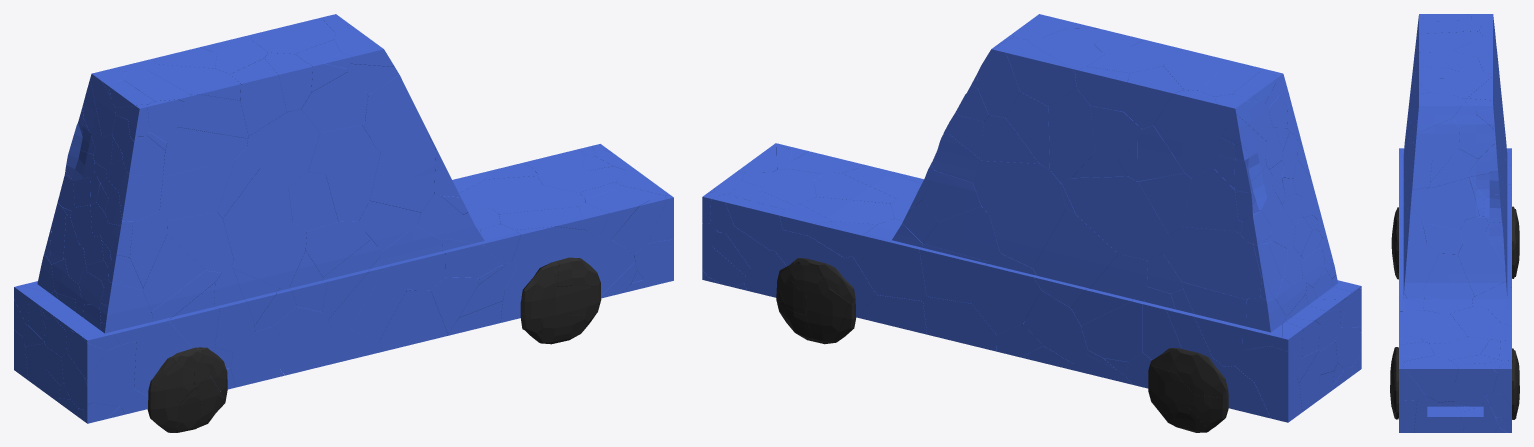
The model's file is FunnyBlueCar.fbx.
3 renders of one model, left to right at view 1: azimuth 30°, elevation 25°; view 2: azimuth 150°, elevation 25°; view 3: azimuth 270°, elevation 25°, orthographic. The views are drawn at different scales.
Parts seen in each view (by area): view 1: CarBody_cell.181, CarBody_cell.229, CarBody_cell.017, CarBody_cell.168, CarBody_cell.297, CarBody_cell.124, CarBody_cell.010, CarBody_cell.114, CarBody_cell.071, CarBody_cell.118, CarBody_cell.016, CarBody_cell.117 (+82 smaller); view 2: CarBody_cell.019, CarBody_cell.213, CarBody_cell.029, CarBody_cell.244, CarBody_cell.050, CarBody_cell.171, CarBody_cell.129, CarBody_cell.194, CarBody_cell.294, CarBody_cell.266, CarBody_cell.289, CarBody_cell.228 (+78 smaller); view 3: CarBody_cell.023, CarBody_cell.013, CarBody_cell.162, CarBody_cell.188, CarBody_cell.192, CarBody_cell.146, CarBody_cell.025, CarBody_cell.225, CarBody_cell.200, CarBody_cell.091, CarBody_cell.290, CarBody_cell.168 (+66 smaller).
Boxes of the visible parts, box(x1,y1,x2,y2) form: CarBody_cell.181: box(223, 168, 292, 259); CarBody_cell.229: box(369, 138, 435, 212); CarBody_cell.017: box(247, 109, 319, 187); CarBody_cell.168: box(365, 74, 429, 151); CarBody_cell.297: box(159, 159, 235, 220); CarBody_cell.124: box(231, 222, 306, 288); CarBody_cell.010: box(382, 225, 445, 290); CarBody_cell.114: box(163, 127, 247, 177); CarBody_cell.071: box(301, 72, 368, 132); CarBody_cell.118: box(167, 212, 233, 272); CarBody_cell.016: box(379, 290, 447, 351); CarBody_cell.117: box(512, 226, 595, 274); CarBody_cell.019: box(1062, 176, 1169, 260); CarBody_cell.213: box(1033, 208, 1119, 307); CarBody_cell.029: box(1163, 227, 1248, 299); CarBody_cell.244: box(853, 219, 926, 301); CarBody_cell.050: box(1153, 90, 1221, 178); CarBody_cell.171: box(972, 253, 1040, 334); CarBody_cell.129: box(989, 187, 1065, 268); CarBody_cell.194: box(1048, 88, 1095, 183); CarBody_cell.294: box(1182, 282, 1247, 366); CarBody_cell.266: box(973, 160, 1060, 214); CarBody_cell.289: box(1071, 254, 1147, 325); CarBody_cell.228: box(919, 243, 987, 303); CarBody_cell.023: box(1423, 253, 1474, 313); CarBody_cell.013: box(1458, 232, 1505, 296); CarBody_cell.162: box(1411, 188, 1465, 229); CarBody_cell.188: box(1417, 92, 1465, 131); CarBody_cell.192: box(1404, 358, 1457, 393); CarBody_cell.146: box(1459, 115, 1495, 158); CarBody_cell.025: box(1421, 118, 1459, 158); CarBody_cell.225: box(1433, 177, 1479, 219); CarBody_cell.200: box(1417, 31, 1482, 62); CarBody_cell.091: box(1450, 306, 1499, 338); CarBody_cell.290: box(1455, 362, 1500, 396); CarBody_cell.168: box(1411, 130, 1432, 192).
Size of the model in its own units: 995 by 524 by 248.
